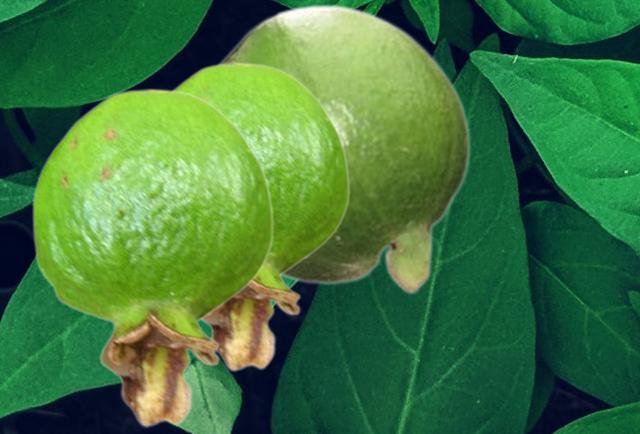guava: (31, 87, 273, 427), (217, 2, 470, 295), (172, 61, 349, 371)
